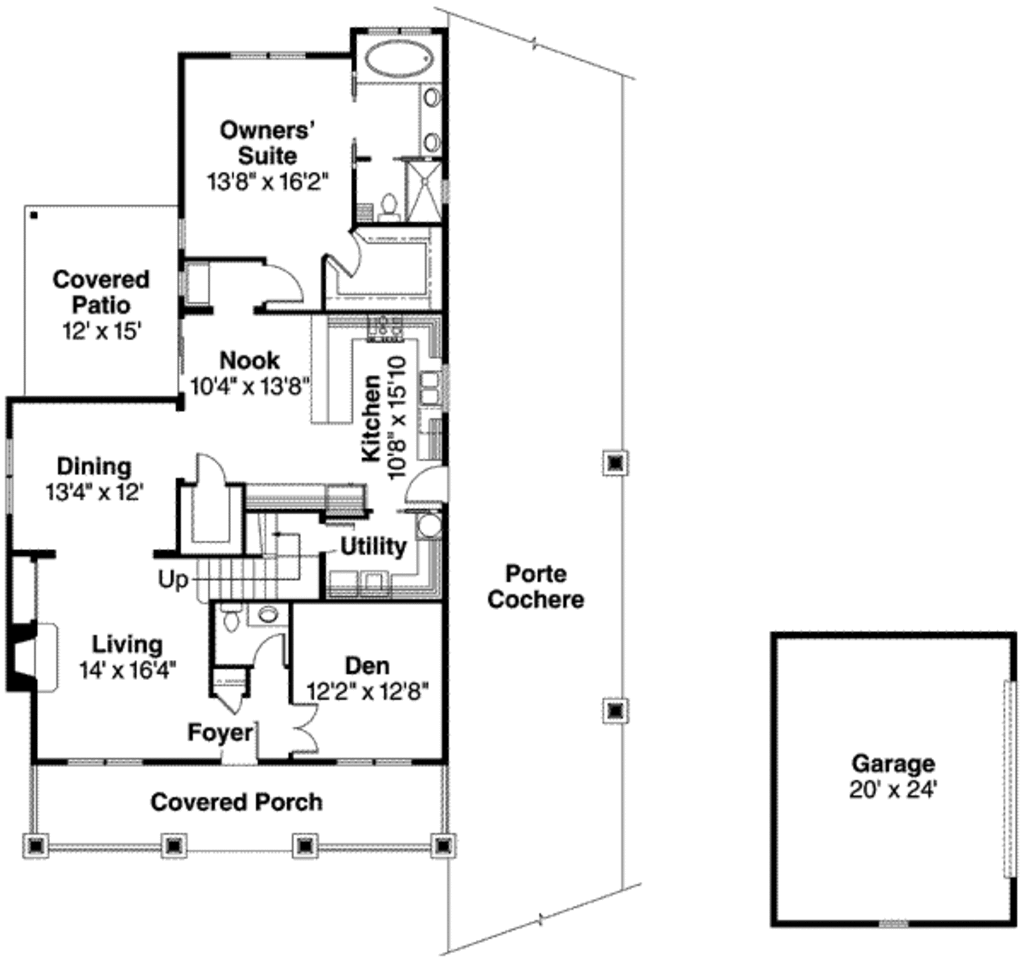door: (314, 220, 381, 286), (247, 247, 314, 308), (390, 451, 454, 512), (212, 715, 275, 774), (173, 441, 244, 492), (279, 697, 329, 756), (250, 633, 302, 677), (202, 683, 262, 715)
large_sink: (370, 186, 411, 229), (214, 599, 251, 641)
small_sink: (417, 81, 448, 165), (245, 597, 299, 633)
stairs: (181, 500, 321, 596)
tub: (356, 27, 448, 87)
twin_sink: (394, 363, 460, 417)
window: (169, 206, 191, 366), (333, 741, 421, 774), (59, 744, 142, 771), (863, 908, 927, 941), (226, 41, 311, 63), (1, 433, 13, 518)
